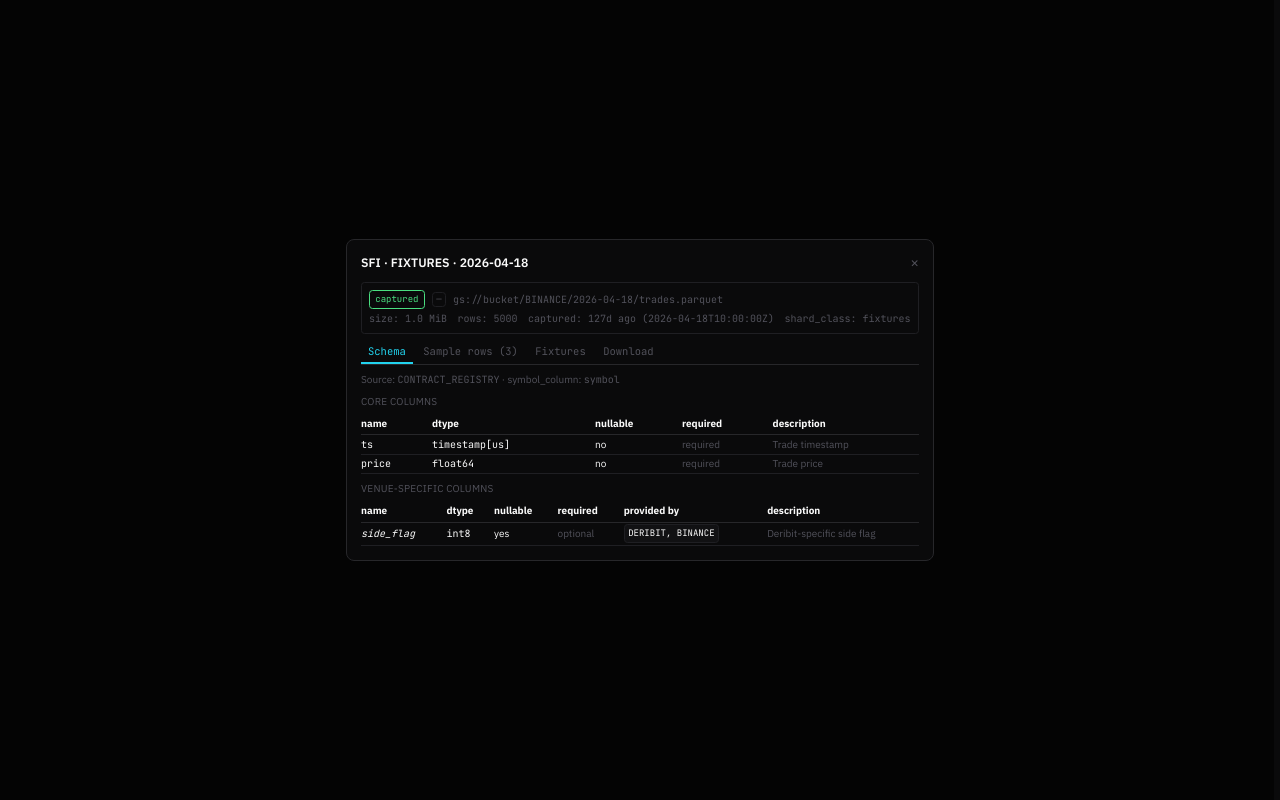
Test case: ShardDetailModal › renders fixtures payload with home/away/kickoff columns
Step 1. Click the button with test id "shard-detail-tab-payload" → click(560, 352), box [528,341,593,364]
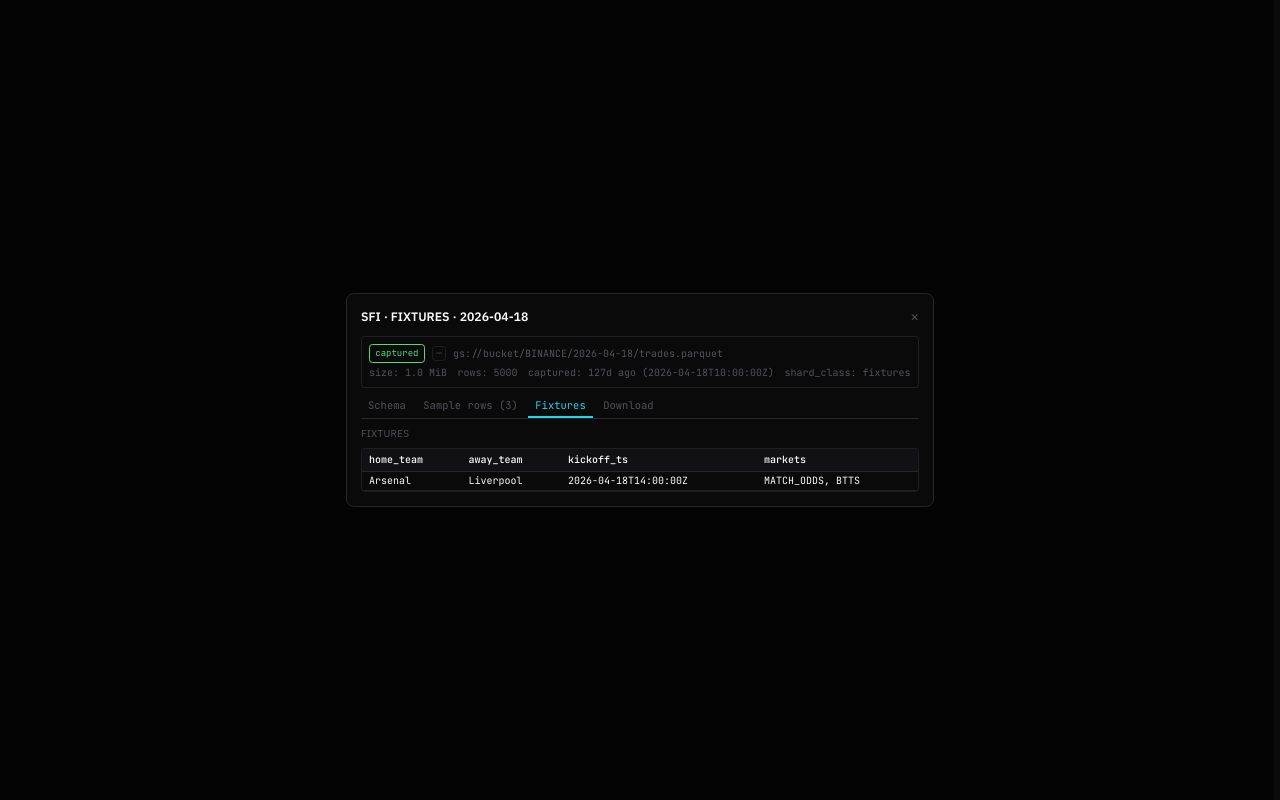
Expected: the element with test id "shard-detail-tab-body-payload" shows "Arsenal", [369,474,411,487]
Expected: the element with test id "shard-detail-tab-body-payload" shows "Liverpool", [468,474,522,487]
Expected: the element with test id "shard-detail-tab-body-payload" shows "MATCH_ODDS", [764,474,860,487]
